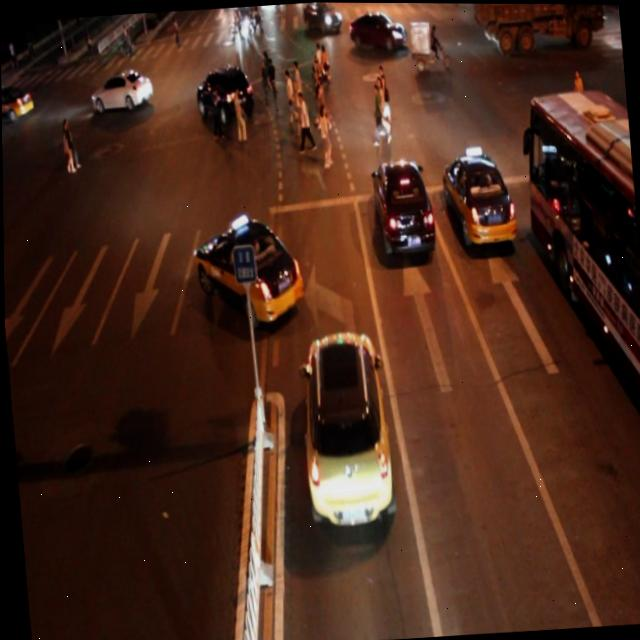bus: (470, 3, 605, 56)
car: (292, 323, 395, 521), (188, 211, 306, 330), (440, 151, 517, 249), (368, 154, 434, 258), (195, 62, 253, 125), (89, 67, 154, 115), (348, 6, 408, 55), (300, 2, 341, 35)
van: (516, 85, 640, 441)
